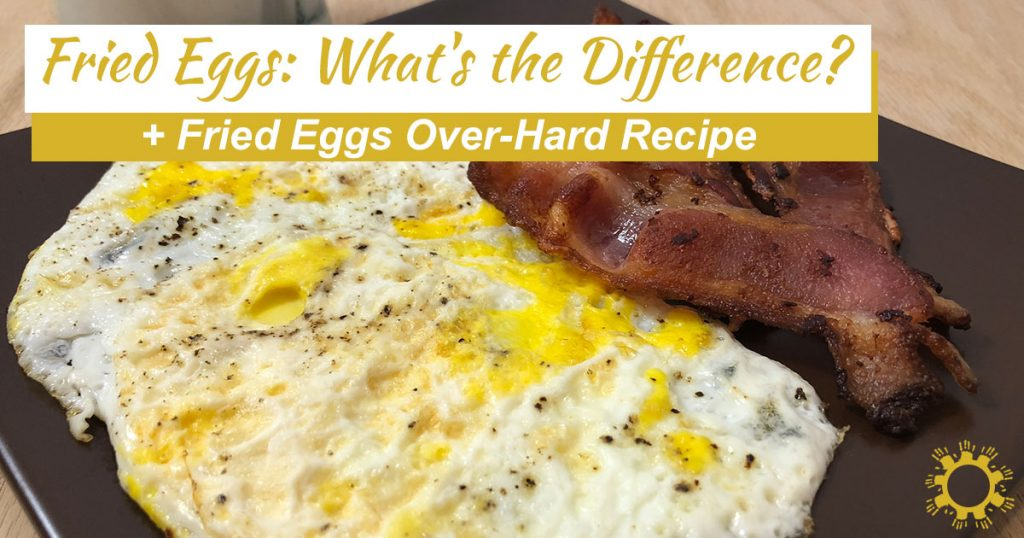fried egg: (142, 223, 634, 515)
